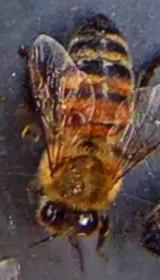varroa_mite: (48, 96, 96, 136)
